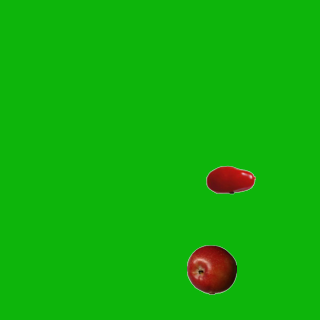Apple Braeburn: (186, 244, 236, 294)
Tomato 2: (205, 154, 255, 204)
